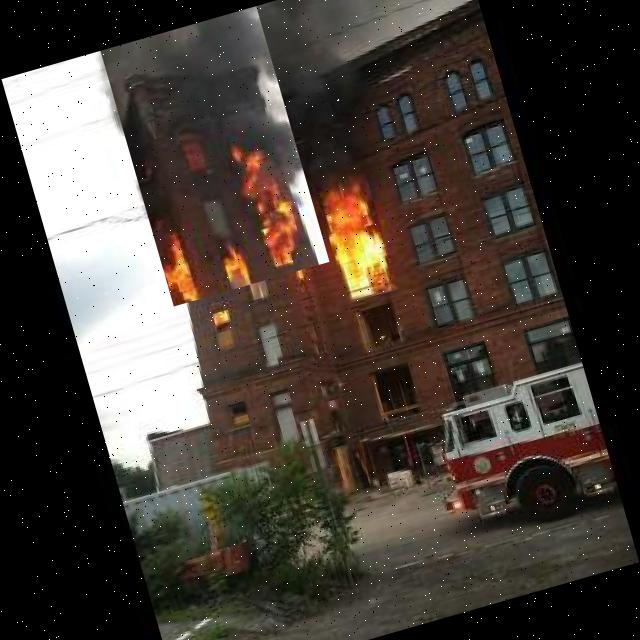fire: (100, 6, 329, 306), (311, 162, 398, 303)
